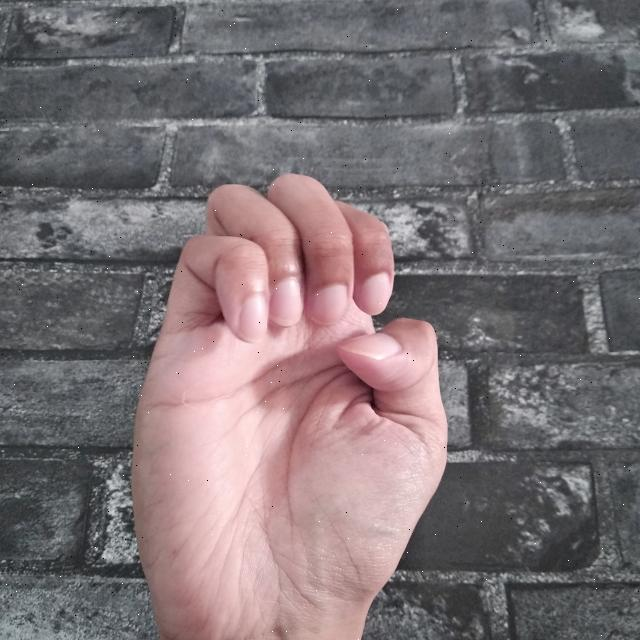E: (135, 171, 449, 640)
